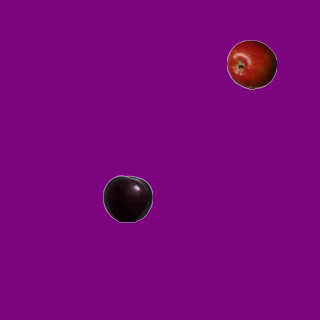Apple Braeburn: (226, 39, 276, 89)
Cherry Wax Black: (102, 173, 152, 223)
